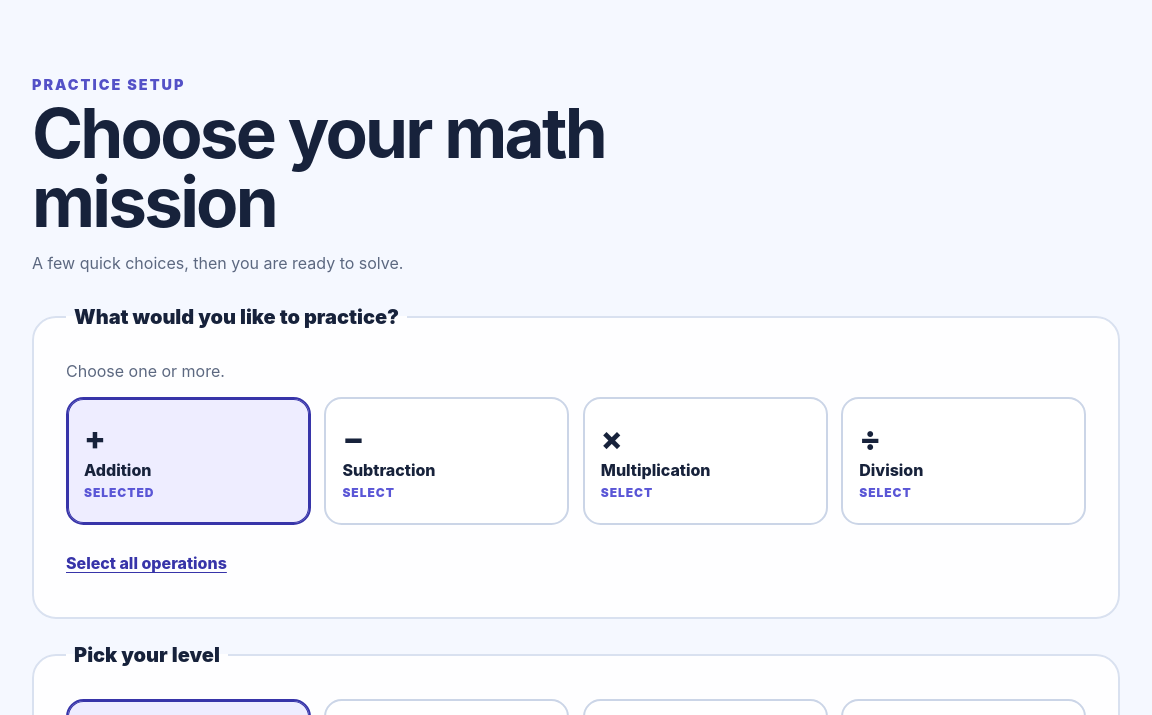
Test: PracticeSetupPage › supports multiple operations and disables start when none are selected
Step 1. Click the button with aria-label "Subtraction not selected" → x=447, y=461, box [324,397,569,525]
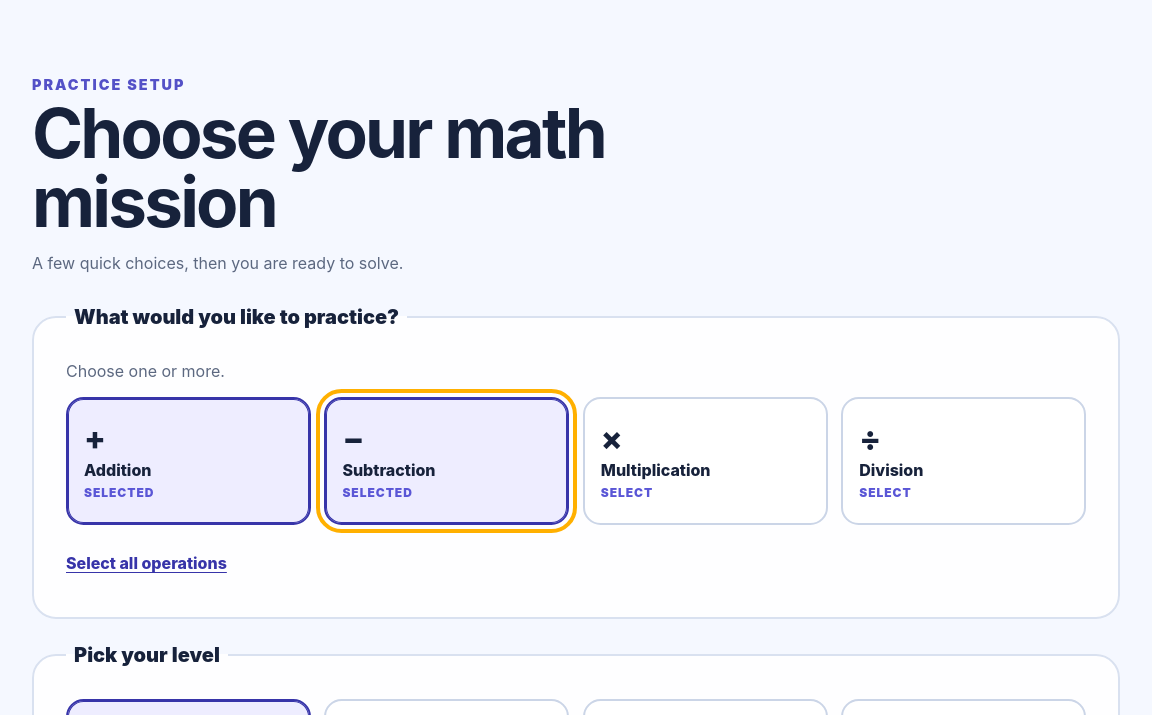
Now the button "− Subtraction Selected" is pressed, box [324,397,569,525]
Step 2. Click the button "Select all operations" → x=146, y=563, box [66,541,227,585]
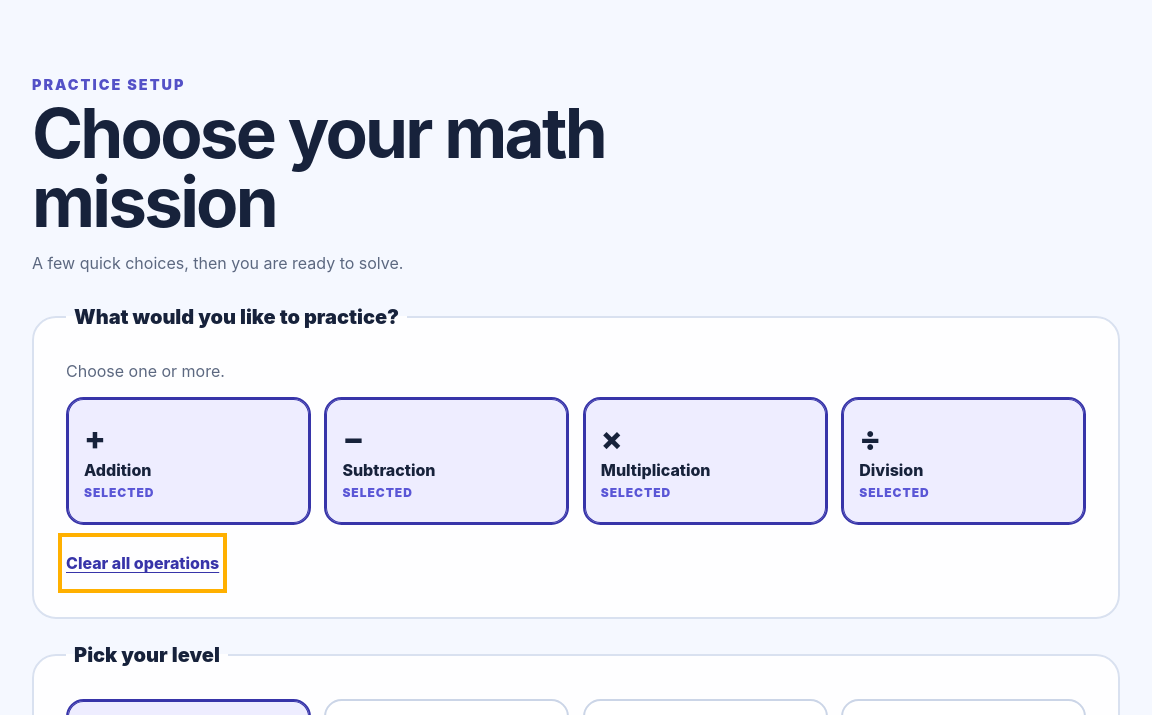
Step 3. Click the button "Clear all operations" → x=143, y=563, box [66,541,219,585]
(page scrolled)
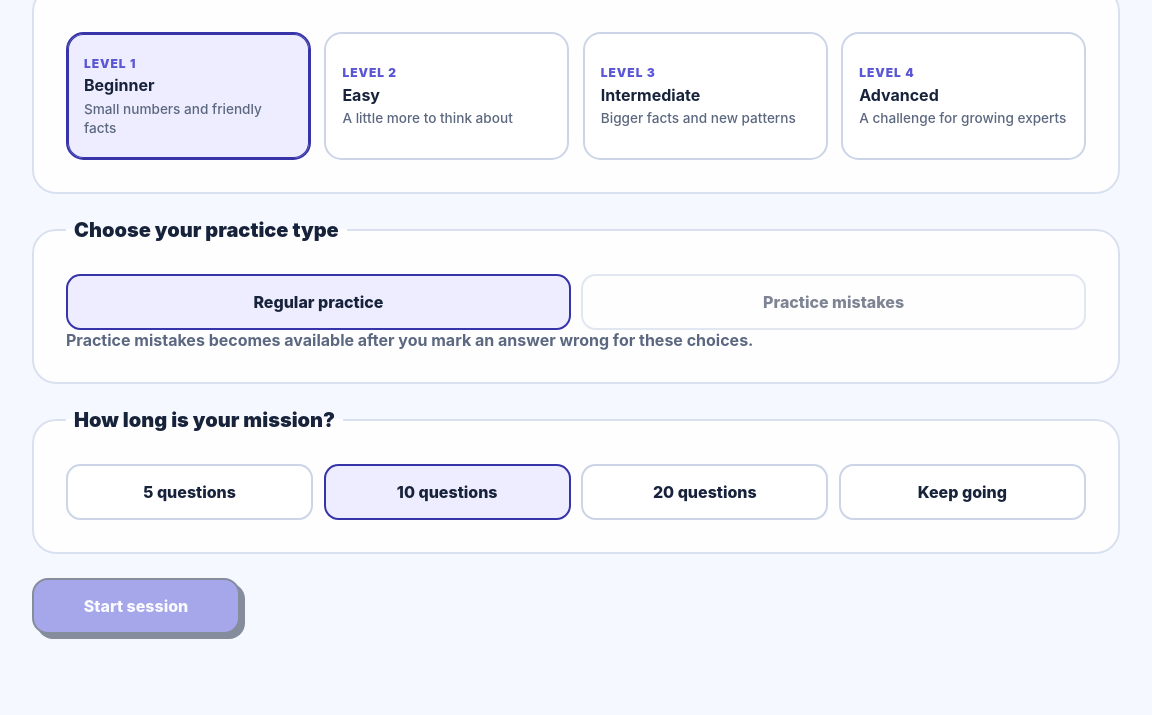
Now the button "Start session" is disabled, box [32,578,240,634]
